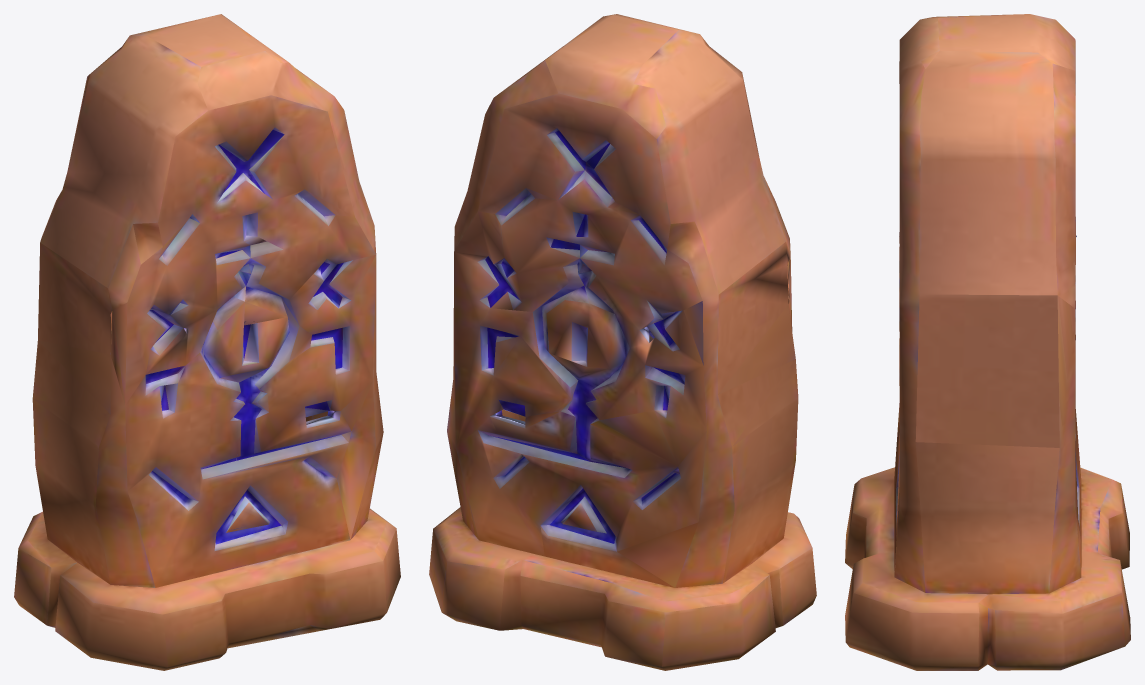
Rendered from lg-standing-circle-stone.glb.
3 views of the same model, side by side, from view 1: azimuth 30°, elevation 25°; view 2: azimuth 150°, elevation 25°; view 3: azimuth 270°, elevation 25° (orthographic).
Visible parts, largest first — view 1: geometry_0; view 2: geometry_0; view 3: geometry_0.
Boxes of the visible parts, bbox=[...] form: geometry_0: bbox=[14, 14, 400, 670]; geometry_0: bbox=[429, 14, 816, 670]; geometry_0: bbox=[845, 14, 1130, 670].
Size of the model in its own units: 0.5901 by 1 by 0.4592.
1 material, 1 textured.
